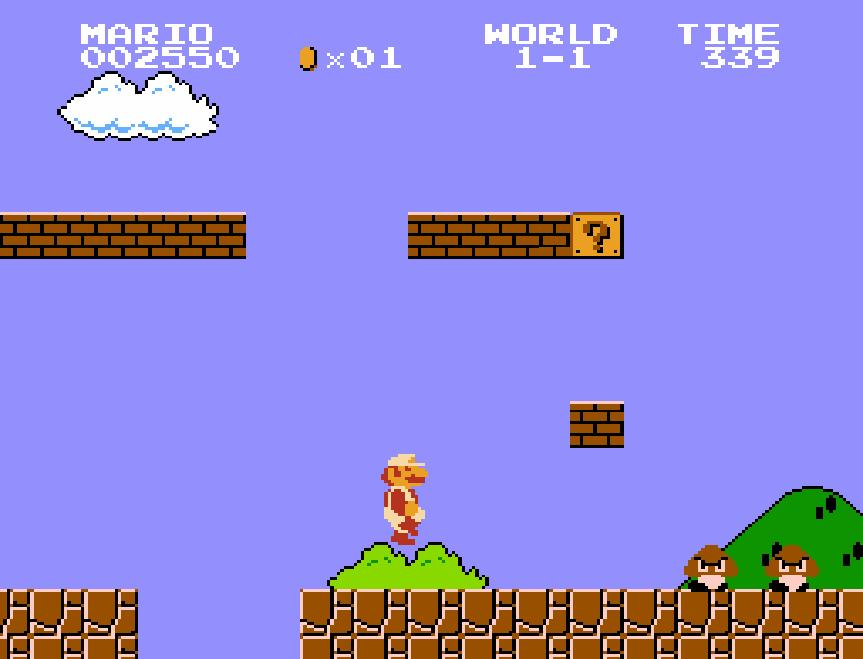fire_mario: (376, 449, 434, 547)
